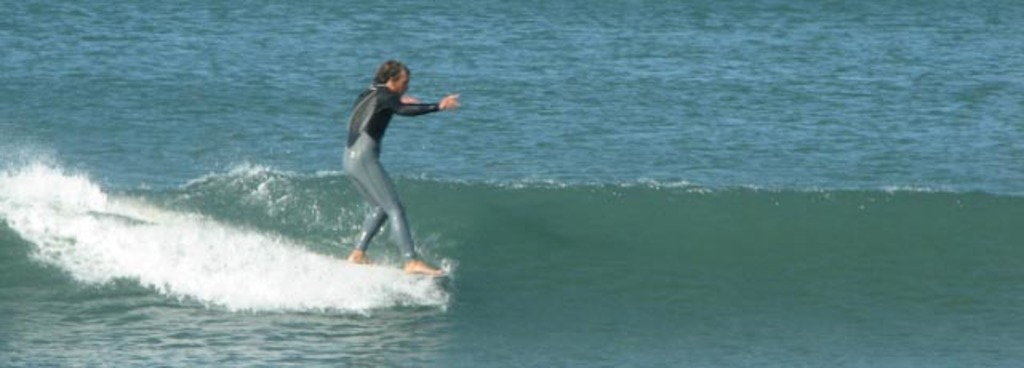Person: (341, 59, 461, 275)
